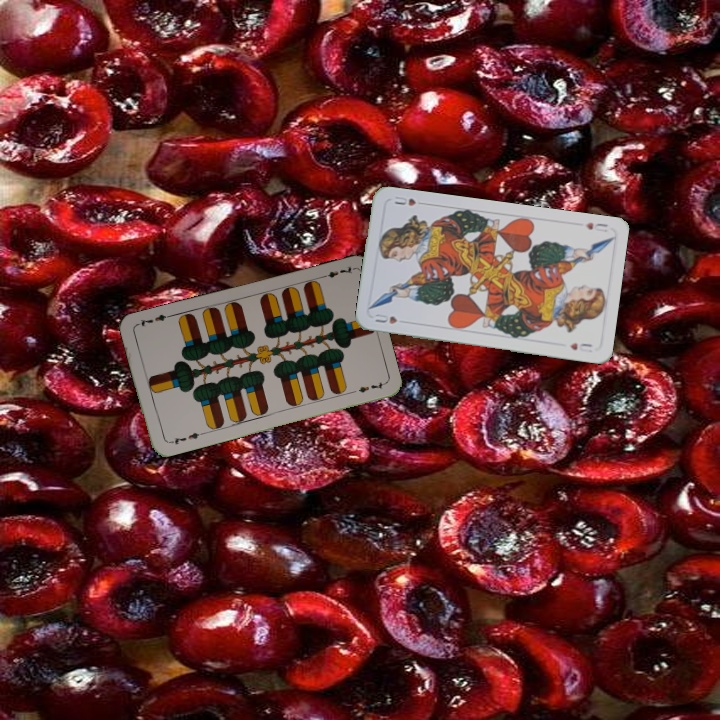E7: (164, 428, 204, 447), (316, 262, 356, 281)
HU: (581, 218, 610, 235), (371, 310, 400, 326)
